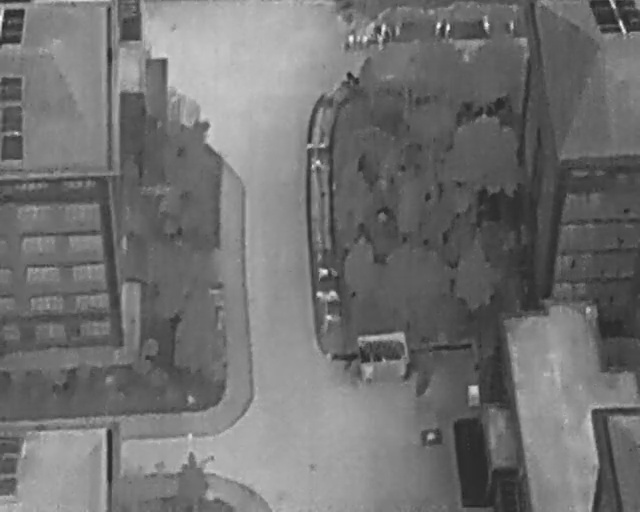Bicycle: (480, 12, 493, 38), (317, 266, 340, 280), (316, 290, 340, 301), (445, 21, 452, 39), (435, 20, 442, 33)
